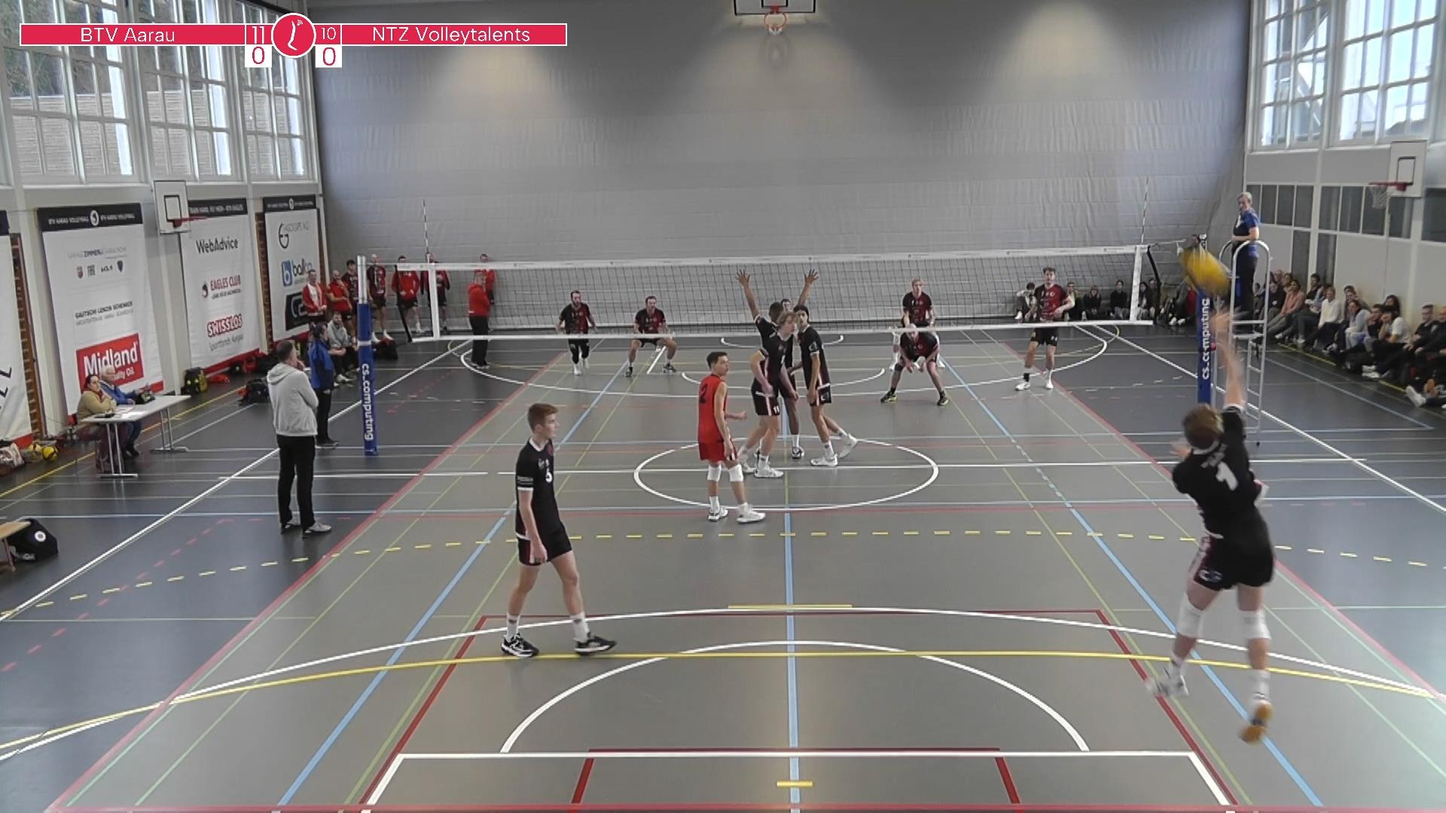battuta: (1141, 310, 1278, 746)
